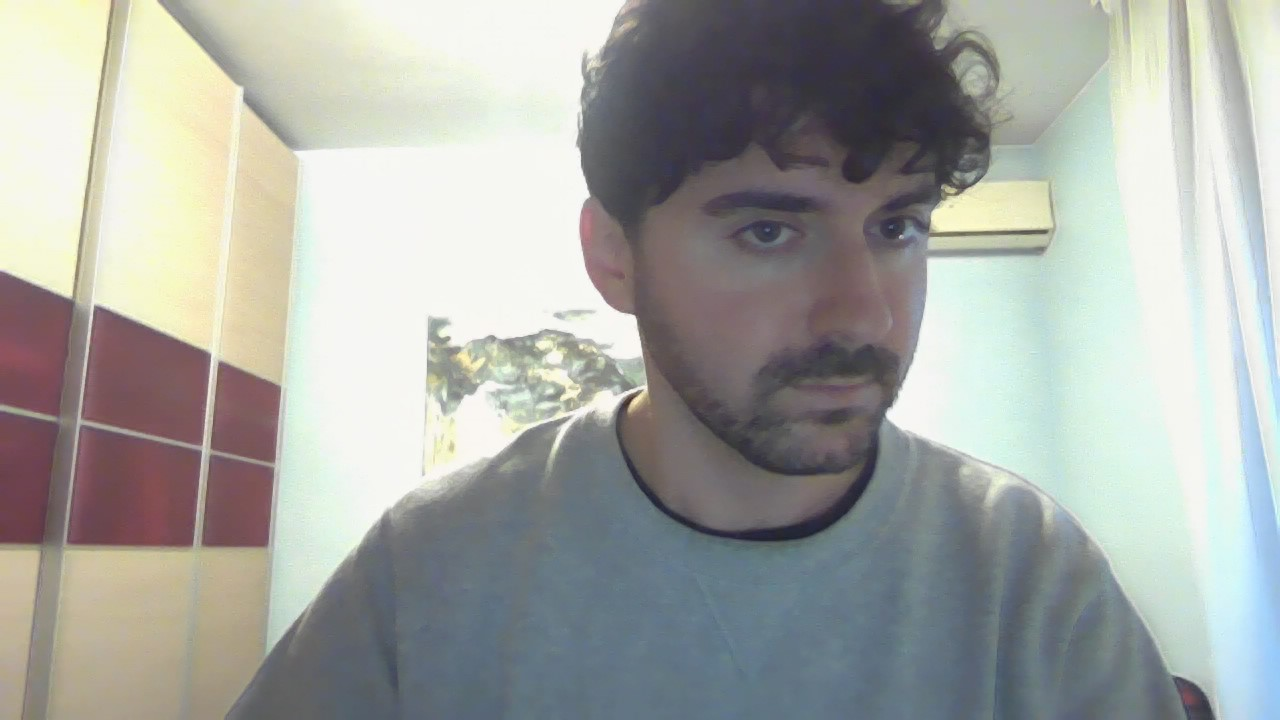NoGlasses: (587, 181, 977, 261)
